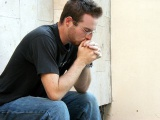male: (57, 2, 96, 53)
